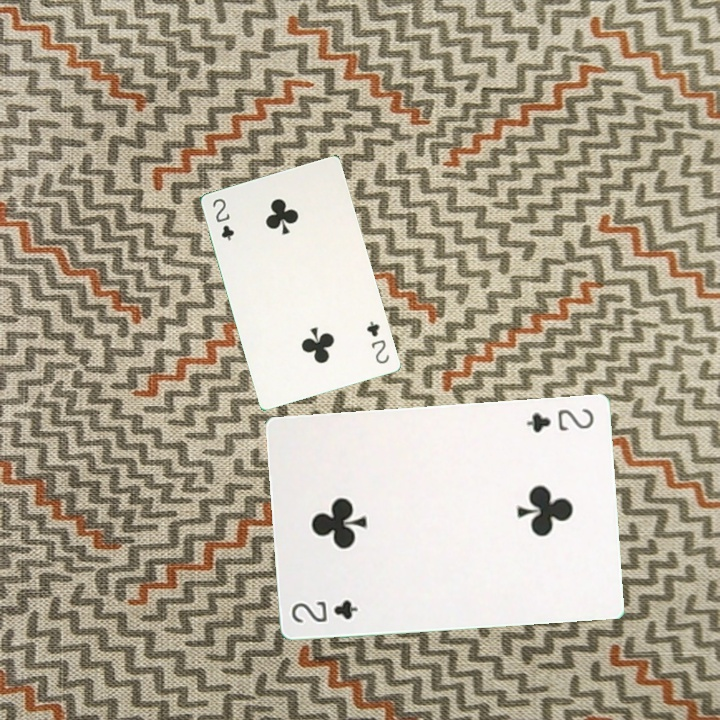2c: (522, 404, 596, 435), (287, 595, 361, 626), (363, 317, 392, 366), (208, 194, 237, 243)
